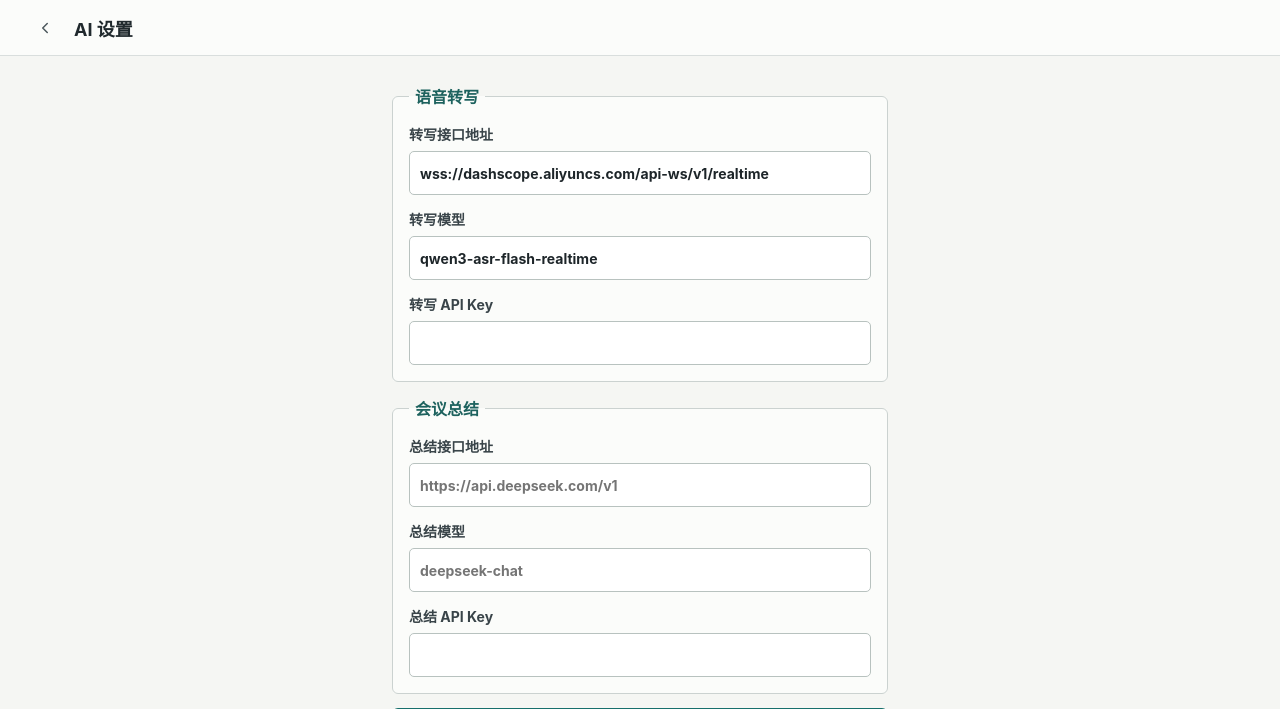
Test: AiSettingsPage › saves independent transcription and summary provider settings
The width and height of the screenshot is (1280, 709).
Expected: the field labelled "转写接口地址" holds "wss://dashscope.aliyuncs.com/api-ws/v1/realtime", [409,151,871,195]
Expected: the field labelled "转写模型" holds "qwen3-asr-flash-realtime", [409,236,871,280]
Type "asr-key" into the password field labelled "转写 API Key" at (640, 343), box [409,321,871,365]
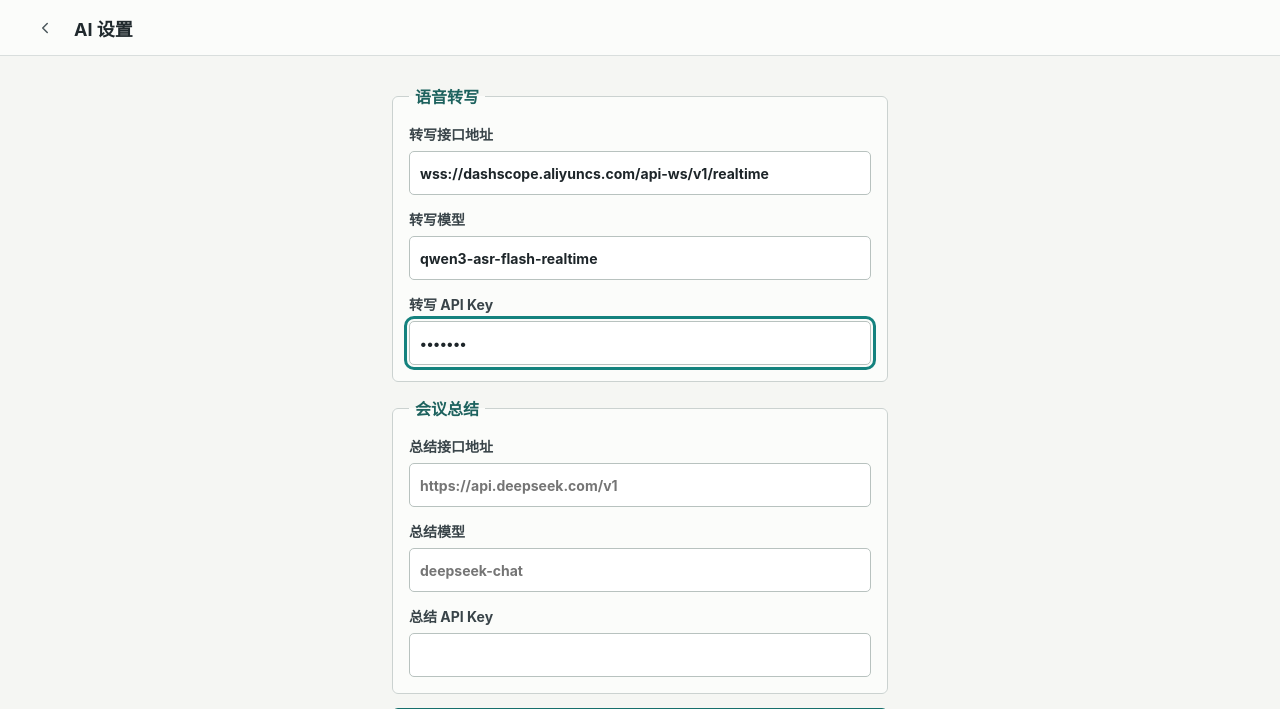
Type "https://summary.example.com/v1" into the field labelled "总结接口地址" at (640, 485), box [409,463,871,507]
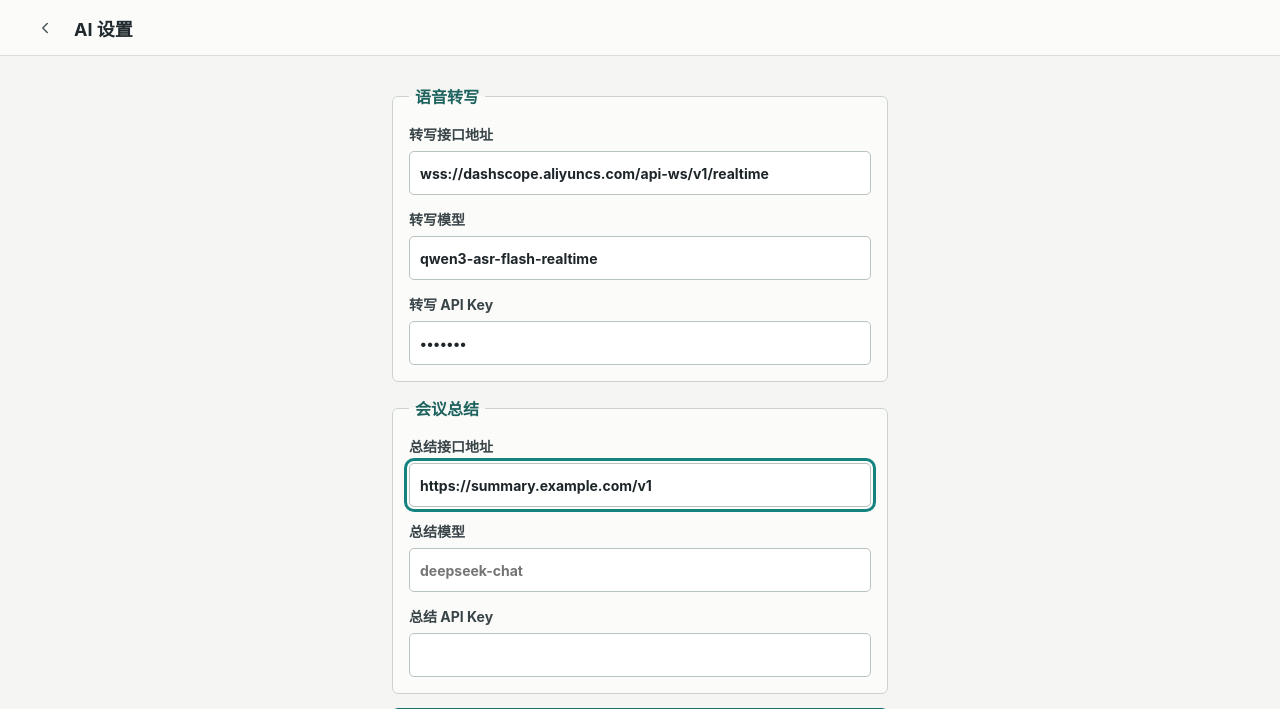
Type "qwen3.6-plus" into the field labelled "总结模型" at (640, 570), box [409,548,871,592]
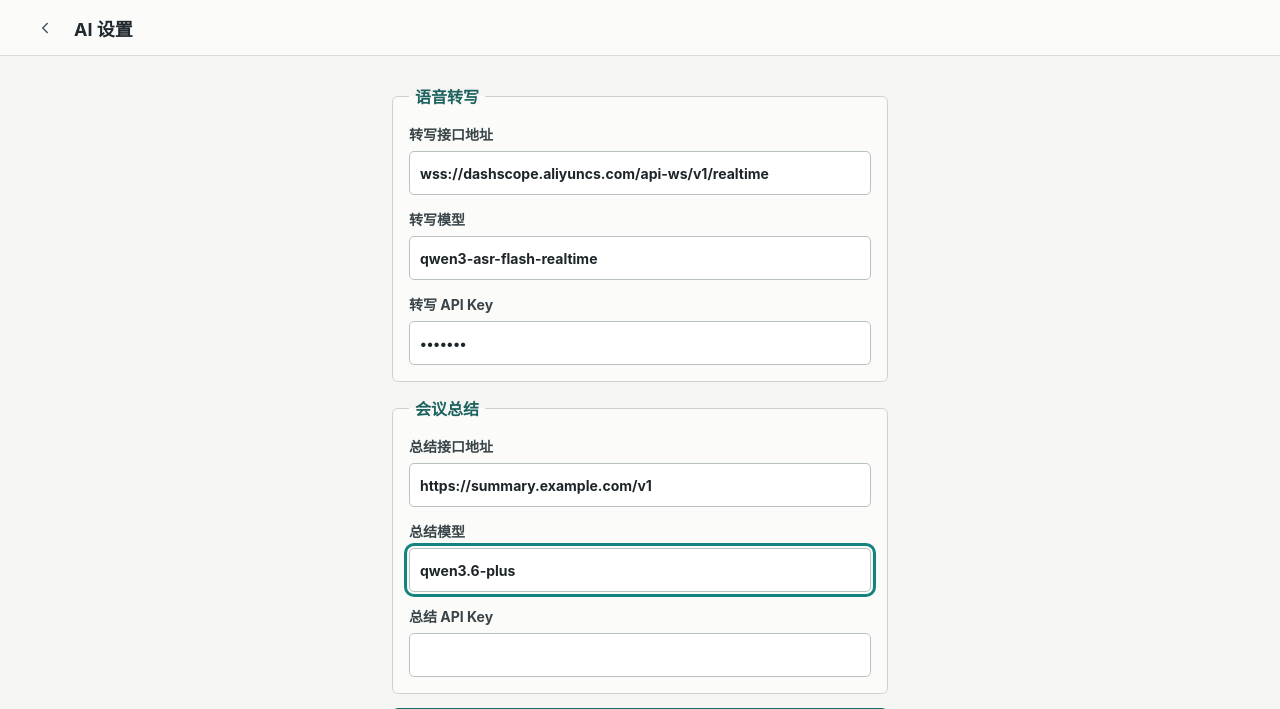
Type "summary-key" into the password field labelled "总结 API Key" at (640, 655), box [409,633,871,677]
(page scrolled)
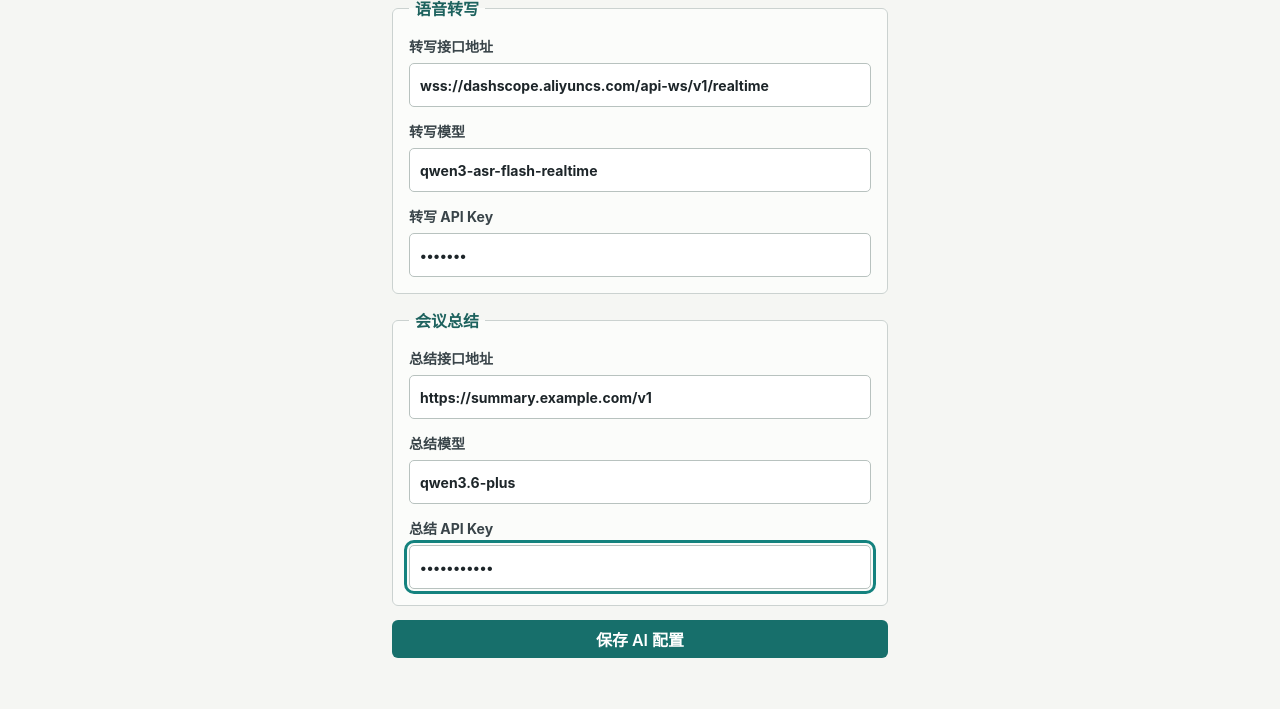
Click the button "保存 AI 配置" at (640, 639), box [392,620,888,658]
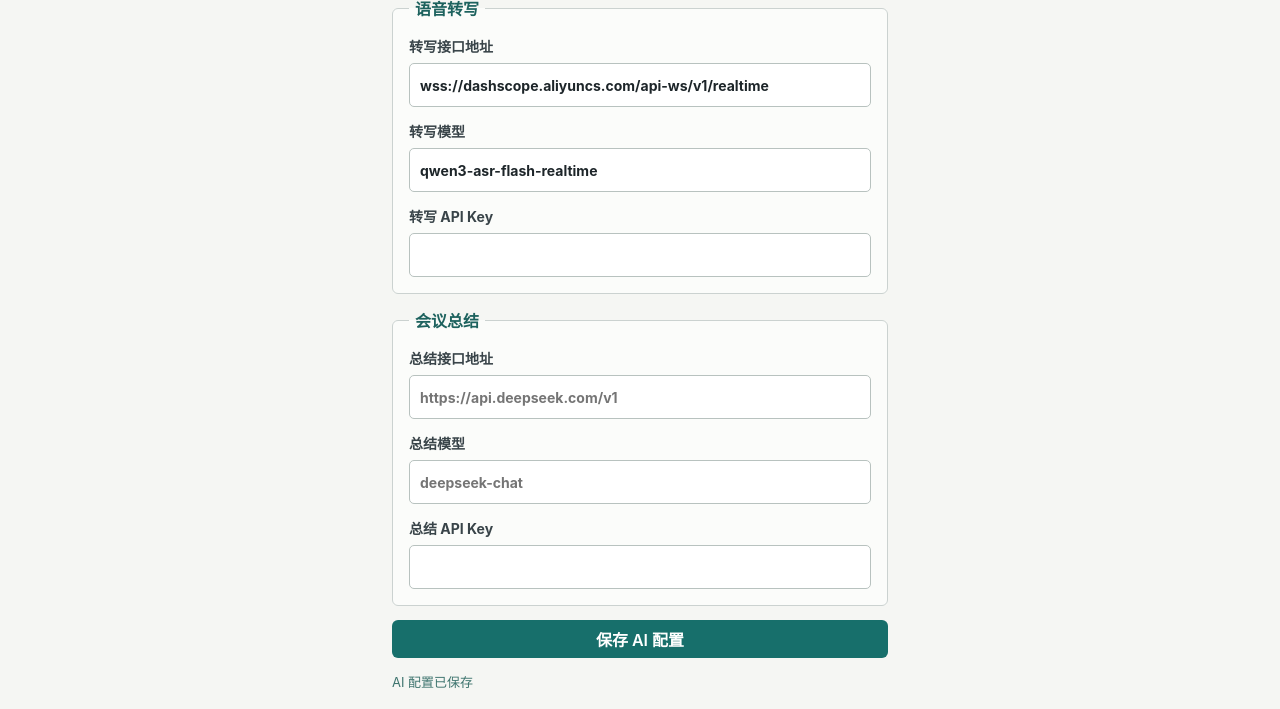
Expected: the message reads "AI 配置已保存", [392,674,473,690]
